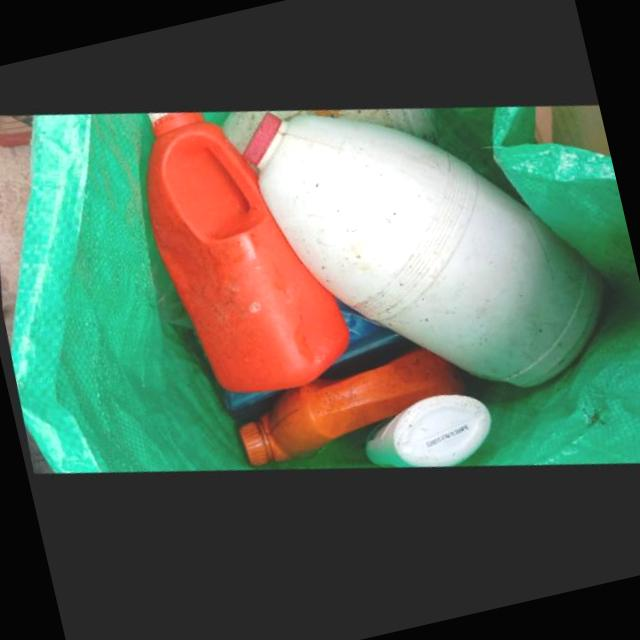chai_nhua: (243, 119, 604, 390), (145, 121, 349, 401), (240, 353, 468, 473), (366, 398, 491, 474)
